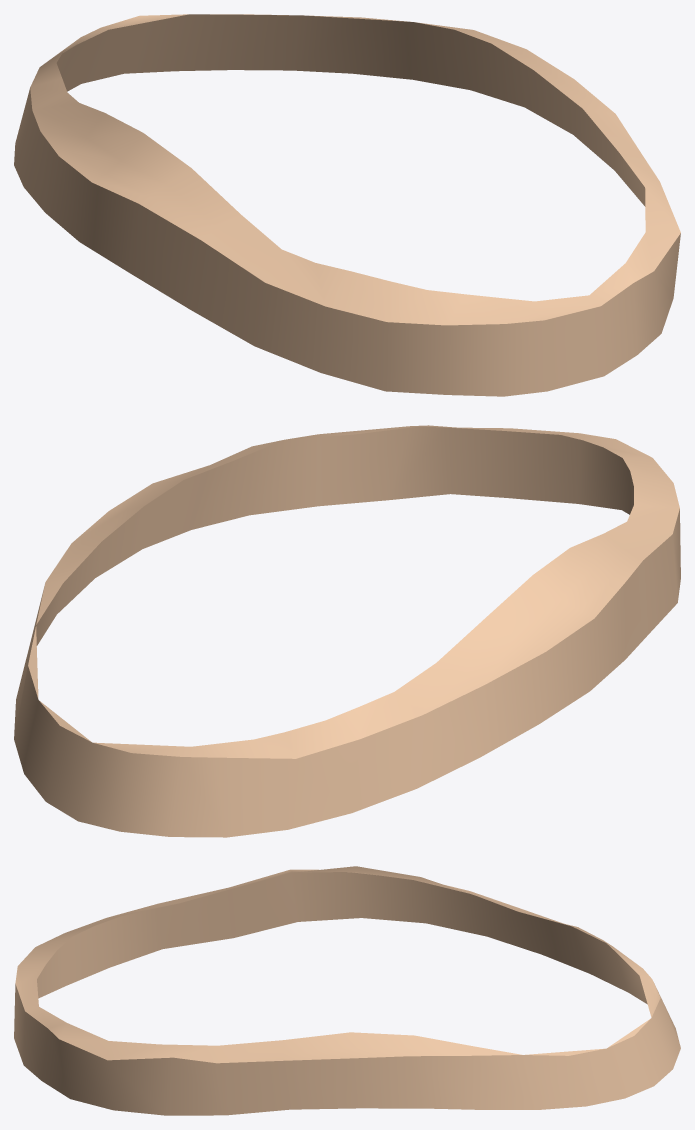
3 views of the same model, one above another, from view 1: azimuth 30°, elevation 25°; view 2: azimuth 150°, elevation 25°; view 3: azimuth 270°, elevation 25° (orthographic). The views are drawn at different scales.
Parts seen in each view (by area): view 1: Cylinder.001; view 2: Cylinder.001; view 3: Cylinder.001.
Boxes of the visible parts, x1=… form: Cylinder.001: x1=14, y1=14, x2=680, y2=396; Cylinder.001: x1=14, y1=425, x2=680, y2=837; Cylinder.001: x1=14, y1=866, x2=680, y2=1115.
Bounding box in the file's own units: 16.31 × 4.76 × 25.2.
